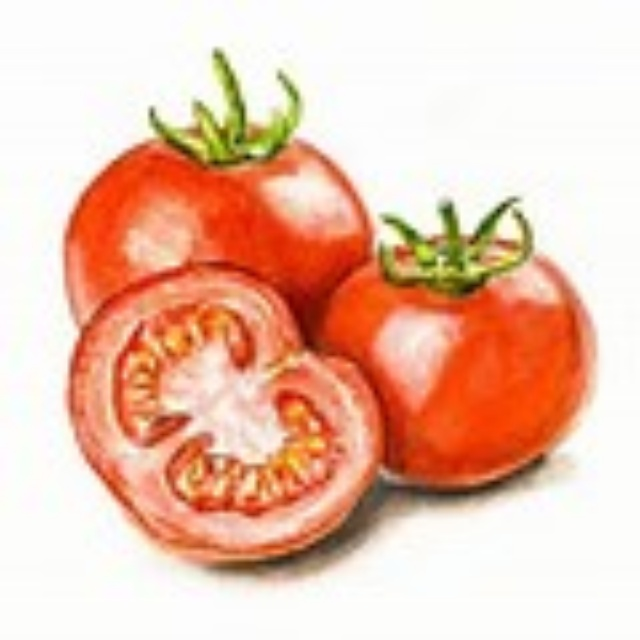tomato: (80, 275, 380, 567), (67, 113, 373, 343), (331, 243, 590, 482)
